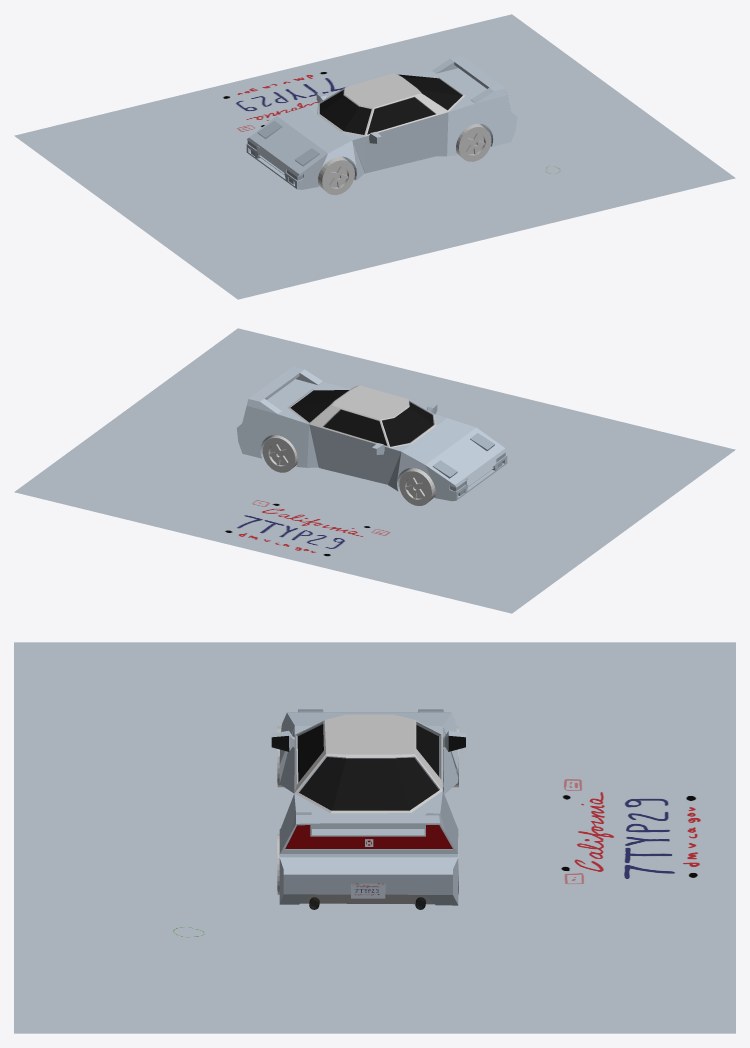
Rendered from car.fbx.
The picture shows the model from 3 angles, top to bottom: view 1: azimuth 30°, elevation 25°; view 2: azimuth 150°, elevation 25°; view 3: azimuth 270°, elevation 25°; orthographic projection. The views are drawn at different scales.
Parts seen in each view (by area): view 1: Plane, Car body, FrontLeftWheel, BackLeftWheel; view 2: Plane, Car body, FrontRightWheel, BackRightWheel; view 3: Plane, Car body.
Boxes of the visible parts, x1,y1,x2,y2 form: Plane: (14,14,735,299); Car body: (246,55,517,189); FrontLeftWheel: (318,156,354,195); BackLeftWheel: (456,123,491,161); Plane: (14,328,735,613); Car body: (236,366,507,501); FrontRightWheel: (399,468,435,505); BackRightWheel: (262,435,297,472); Plane: (14,642,735,1033); Car body: (271,709,465,909).
Bounding box in the file's own units: 893 × 116 × 696.
